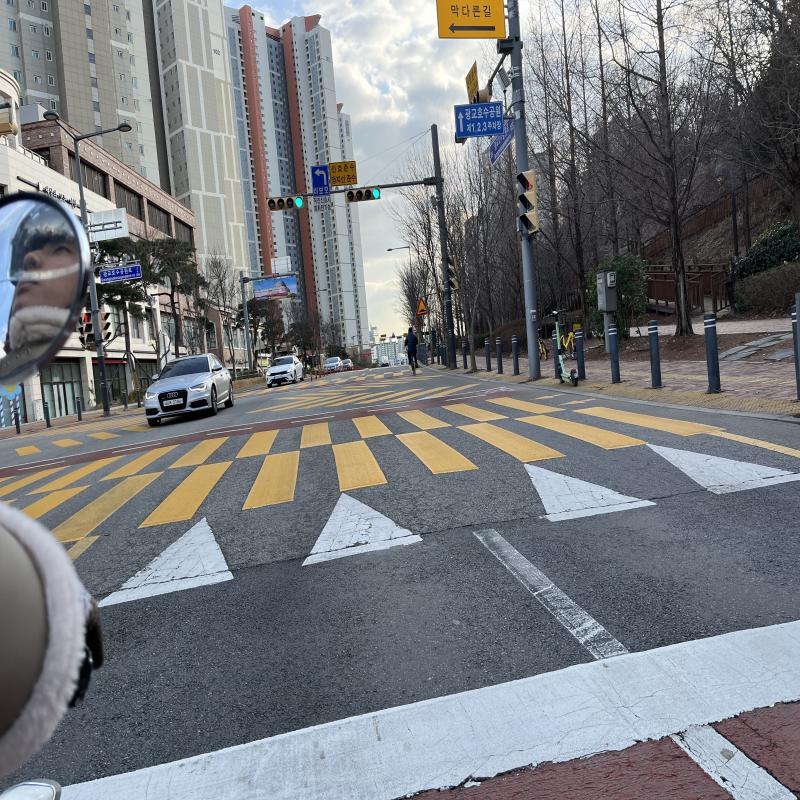green: (294, 196, 304, 210), (372, 187, 381, 199)
